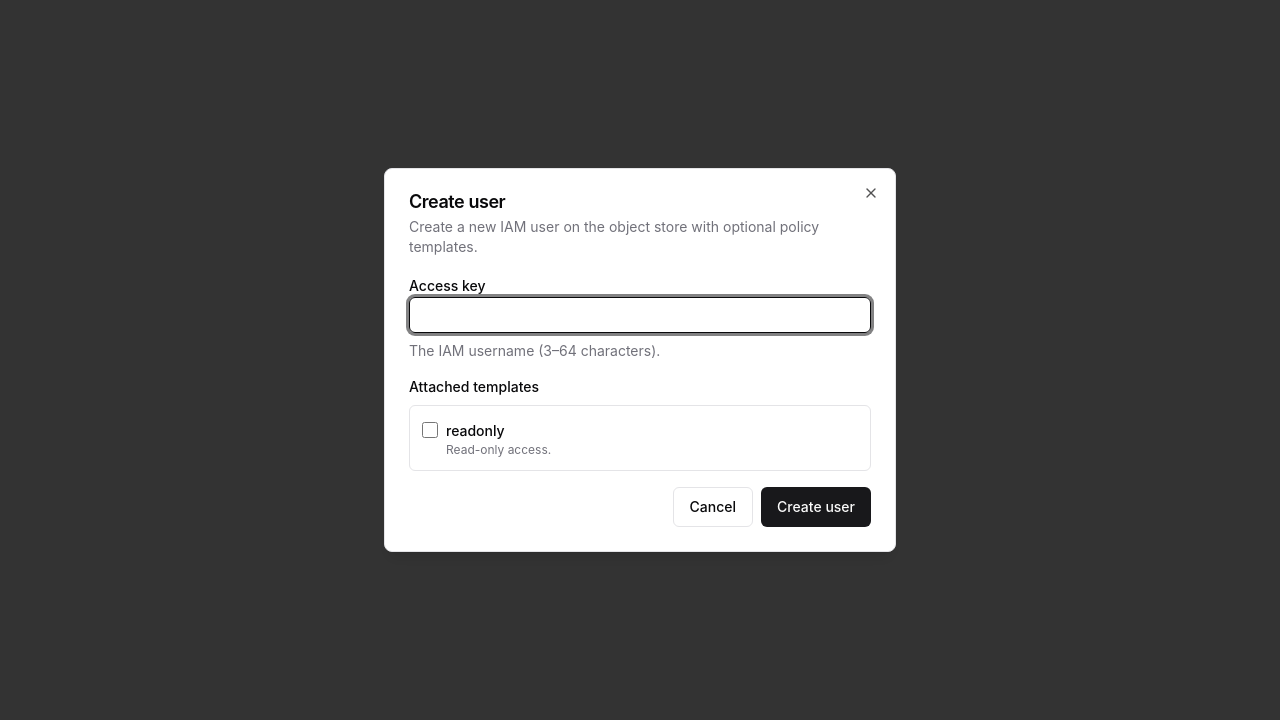
Test: CreateUserDialog › hides the secret behind a mask after successful create
Type "alice" into the field labelled "Access key" at [640, 315], box top-left (409, 297), bottom-right (871, 333)
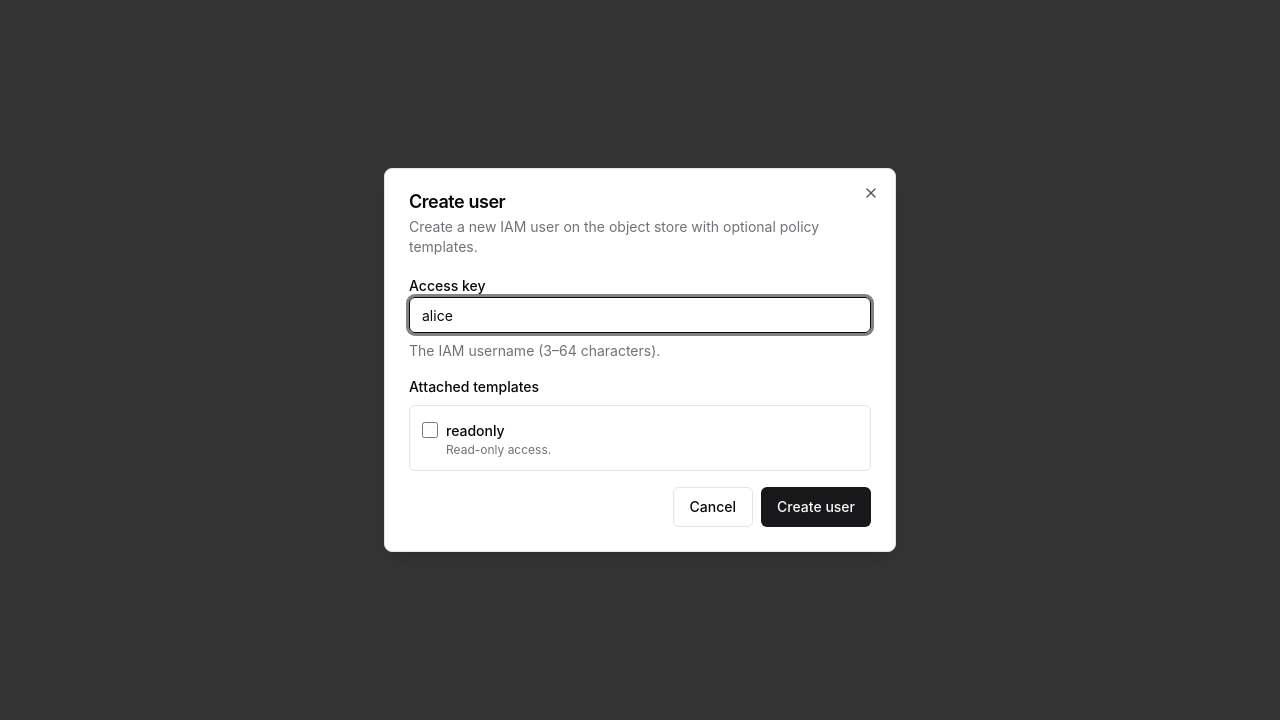
Click the button "Create user" at [816, 507], box top-left (761, 487), bottom-right (871, 527)
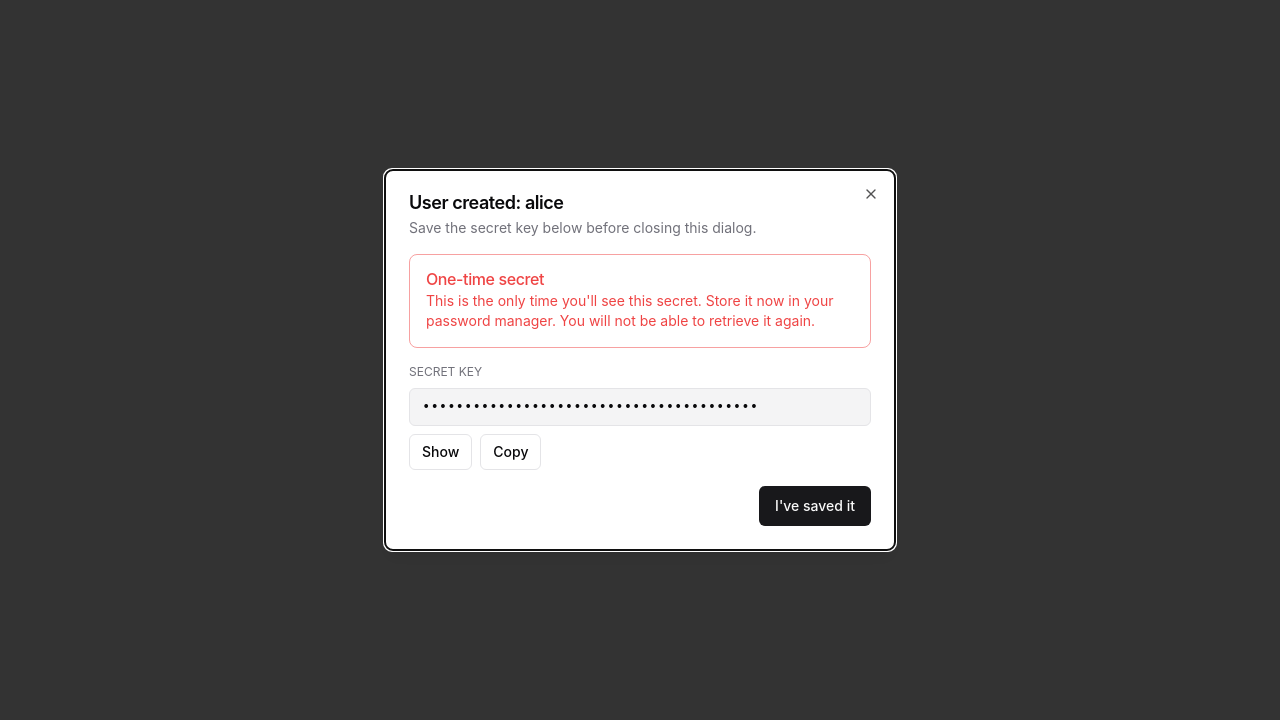
Expected: the heading "One-time secret" is shown, top-left (426, 269), bottom-right (544, 289)
